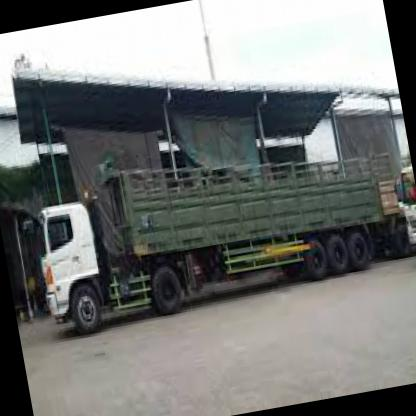truck: (29, 194, 114, 343)
